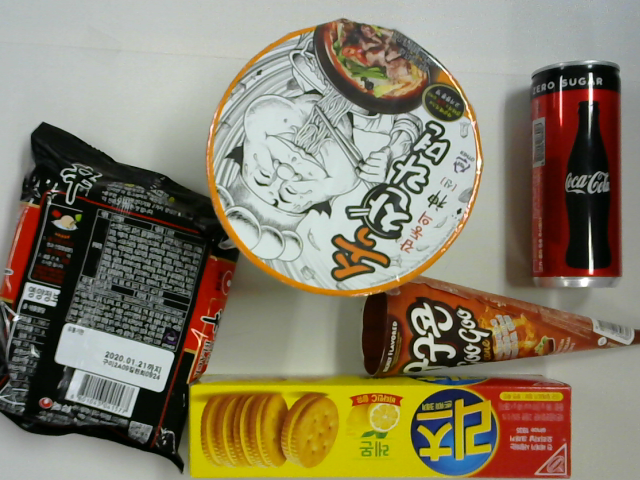Coca_Cola_Zero_Can_250ml: (525, 58, 627, 289)
GooGoo_Cone_CVS: (359, 265, 640, 376)
Hejangchan: (204, 18, 483, 295)
Ritz_Remon_96g: (199, 372, 580, 480)
Sinramen_Black: (1, 118, 242, 472)
